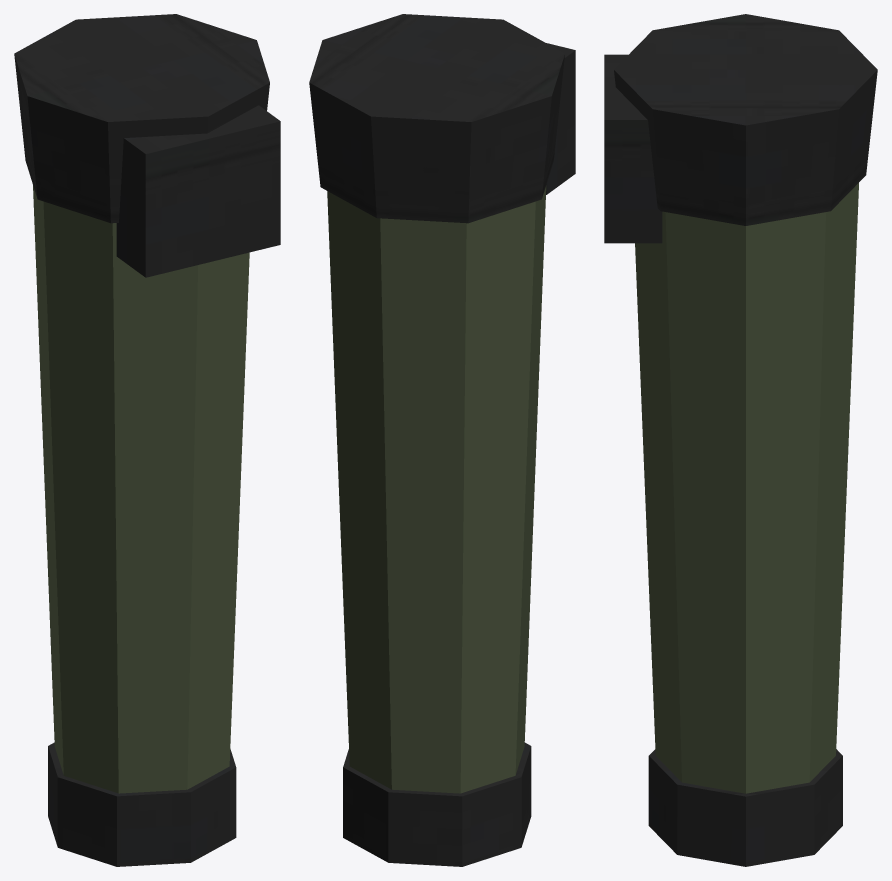
Rendered from eq_present_1_leg.glb.
3 renders of one model, left to right at view 1: azimuth 30°, elevation 25°; view 2: azimuth 150°, elevation 25°; view 3: azimuth 270°, elevation 25°, orthographic.
Visible parts, largest first — view 1: eq_present_1_leg; view 2: eq_present_1_leg; view 3: eq_present_1_leg.
Part boxes in pixels (x1,y1,x2,y2): eq_present_1_leg: (14,14,280,866); eq_present_1_leg: (309,14,575,866); eq_present_1_leg: (604,14,877,866).
Size of the model in its own units: 0.136 by 0.43 by 0.141.
2 materials, 2 textured.
